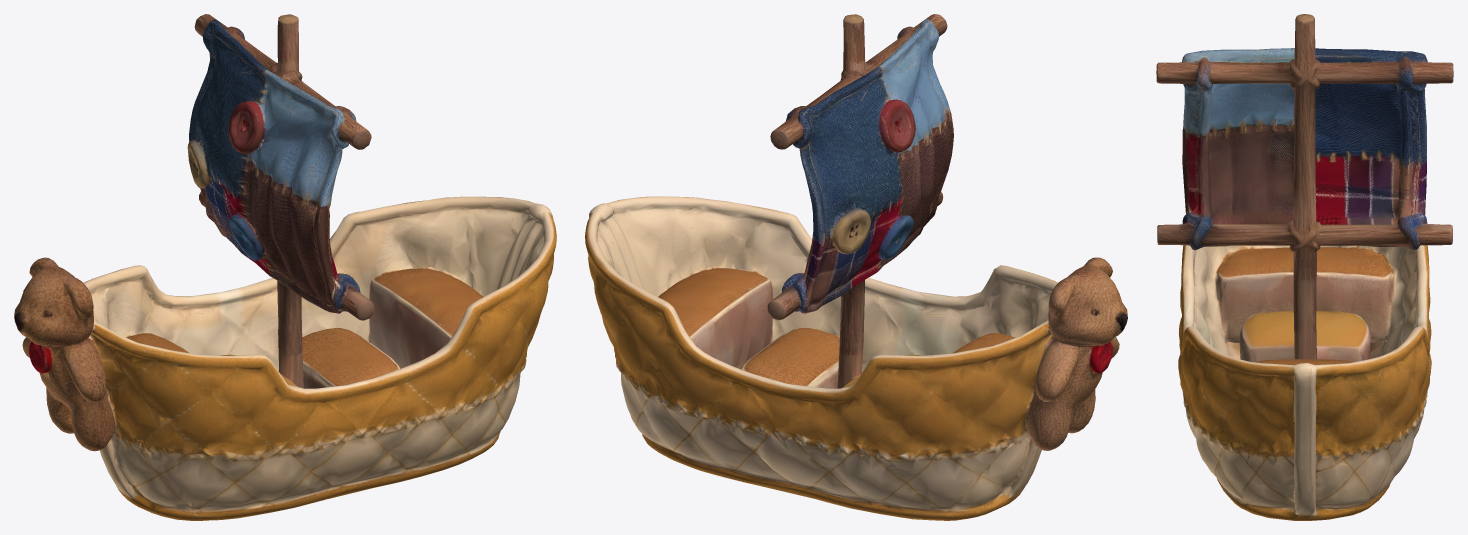
The picture shows the model from 3 angles, left to right: view 1: azimuth 30°, elevation 25°; view 2: azimuth 150°, elevation 25°; view 3: azimuth 270°, elevation 25°; orthographic projection. The views are drawn at different scales.
Parts seen in each view (by area): view 1: Mesh_0; view 2: Mesh_0; view 3: Mesh_0.
Boxes of the visible parts, bbox=[...] form: Mesh_0: bbox=[14, 14, 556, 520]; Mesh_0: bbox=[585, 14, 1127, 520]; Mesh_0: bbox=[1156, 14, 1453, 520].
Size of the model in its own units: 1.9 by 1.57 by 0.9849.
1 material, 1 textured.
